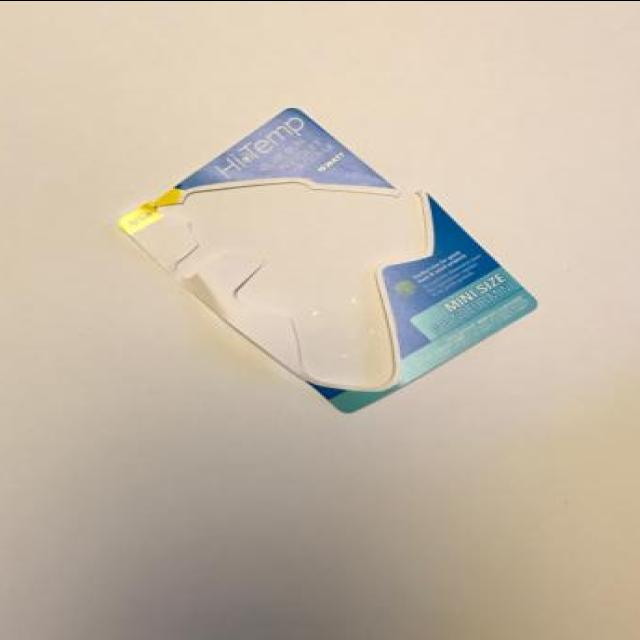kertas: (113, 104, 534, 412)
